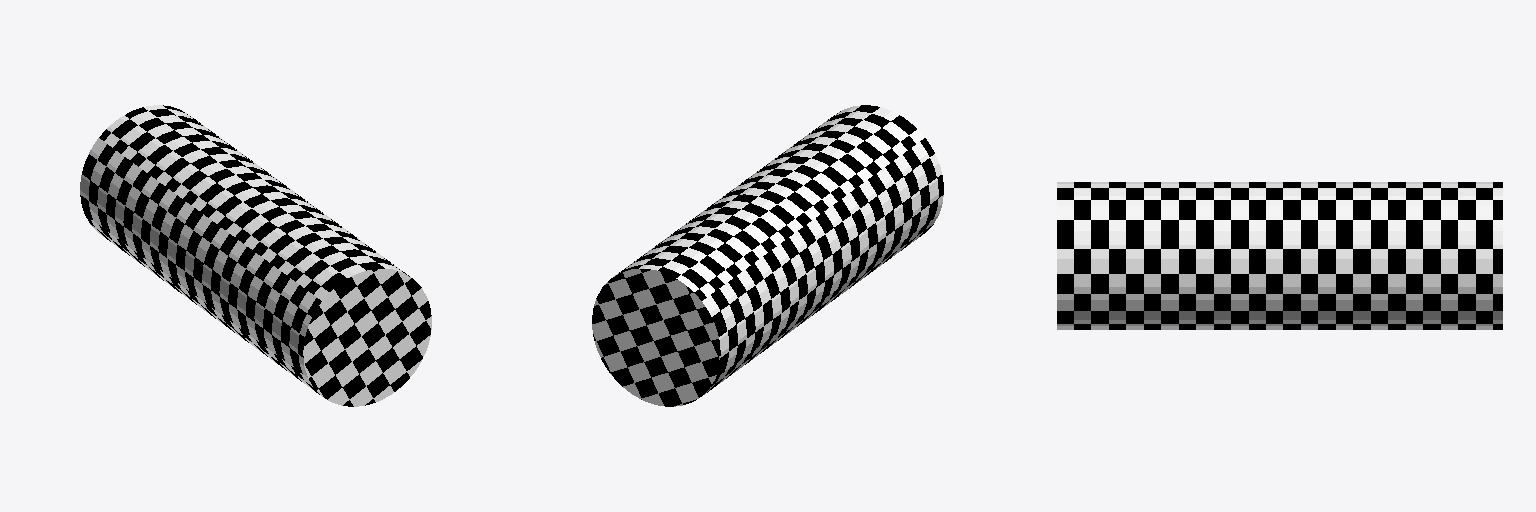
The picture shows the model from 3 angles: view 1: azimuth 30°, elevation 25°; view 2: azimuth 150°, elevation 25°; view 3: azimuth 270°, elevation 25°; orthographic projection.
Parts seen in each view (by area): view 1: Cylinder; view 2: Cylinder; view 3: Cylinder.
Part boxes in pixels (x1,y1,x2,y2): Cylinder: (80,105,431,406); Cylinder: (592,105,943,406); Cylinder: (1057,182,1502,329).
Bounding box in the file's own units: 1 × 1 × 3.
1 materials, 1 textured.